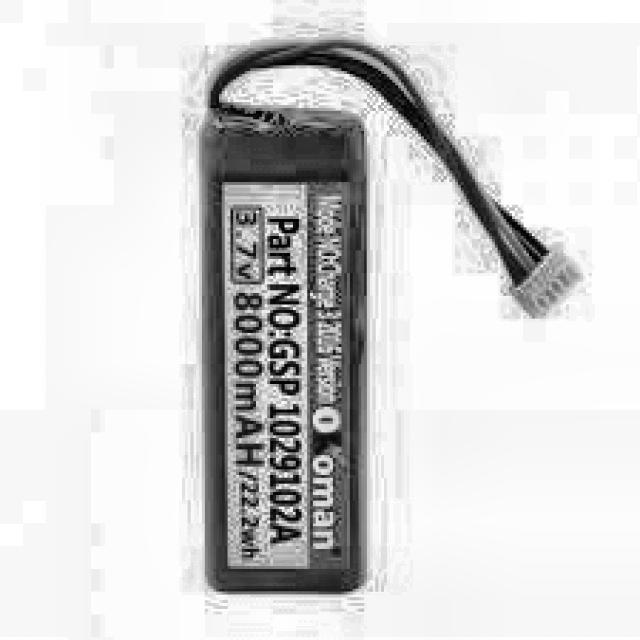Battery: (202, 96, 370, 592)
